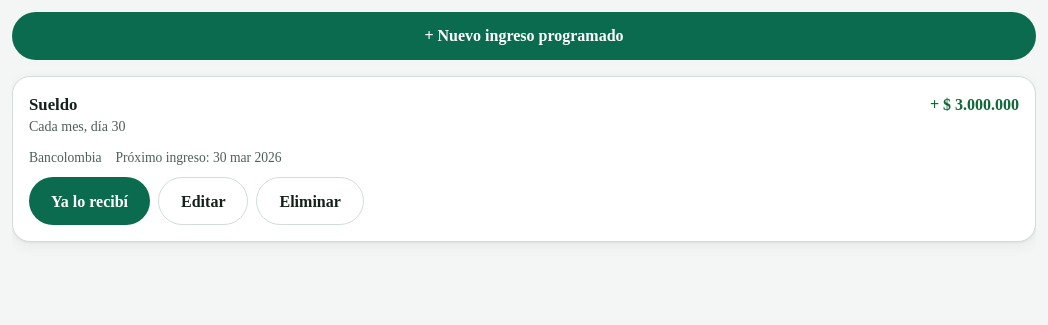
Test: aviso tras "Ya lo recibí" › muestra el aviso que devuelve la acción
Click the button with aria-label "Ya lo recibí: Sueldo": click(90, 201) [29,177,150,225]
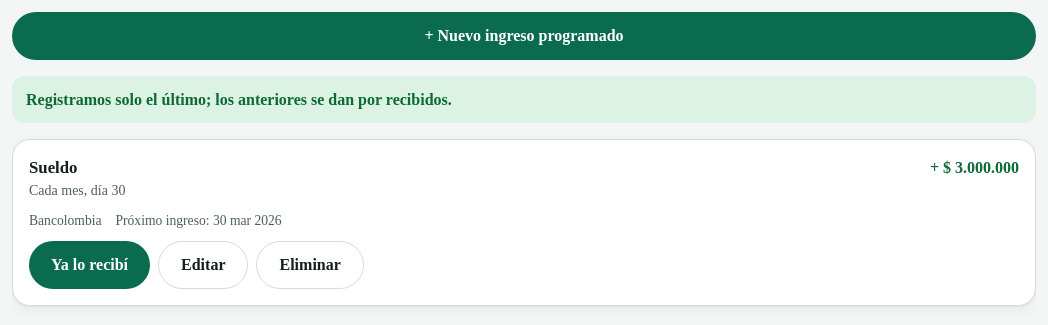
Check: the message reads "Registramos solo el último; los anteriores se dan por recibidos.", box [26,91,452,108]
